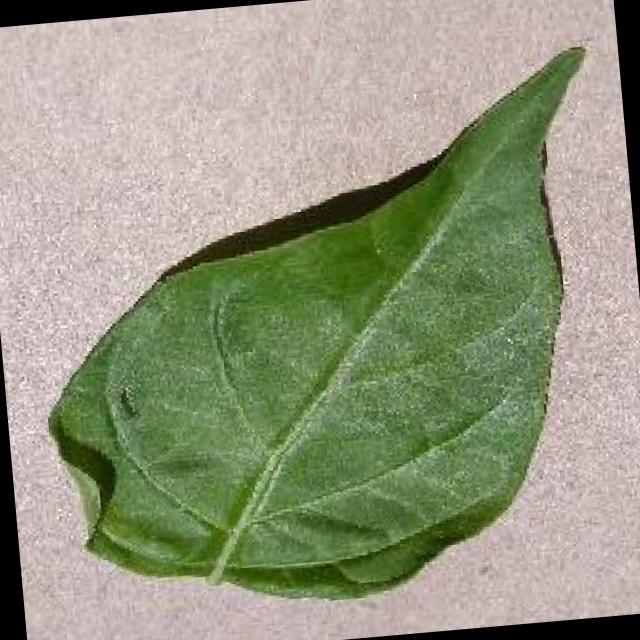Chilli_Healthy: (16, 41, 631, 626)
